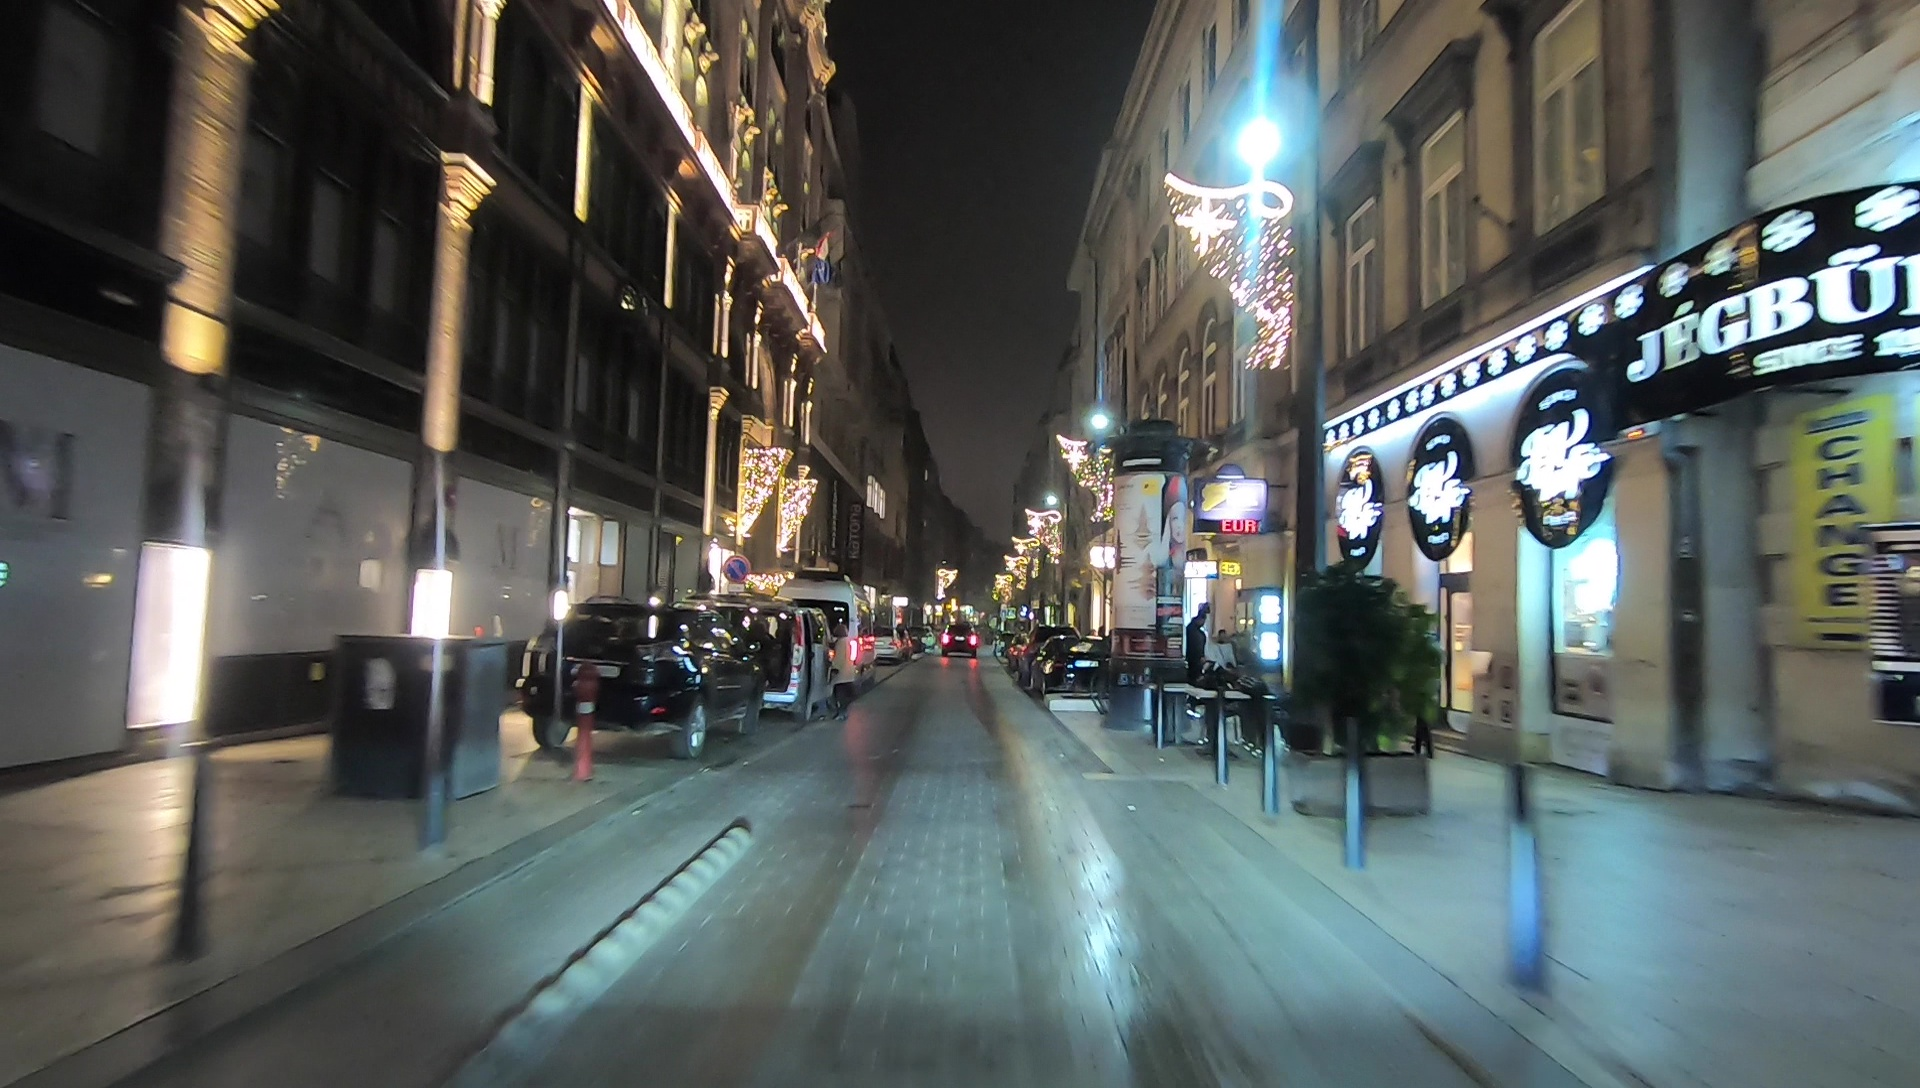person: (829, 625, 851, 720), (1185, 613, 1206, 687)
